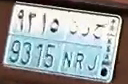1: (37, 10, 47, 69)
3: (23, 8, 37, 67)
5: (45, 16, 64, 73)
9: (8, 8, 25, 64)
J: (88, 22, 105, 74)
N: (61, 18, 78, 69)
